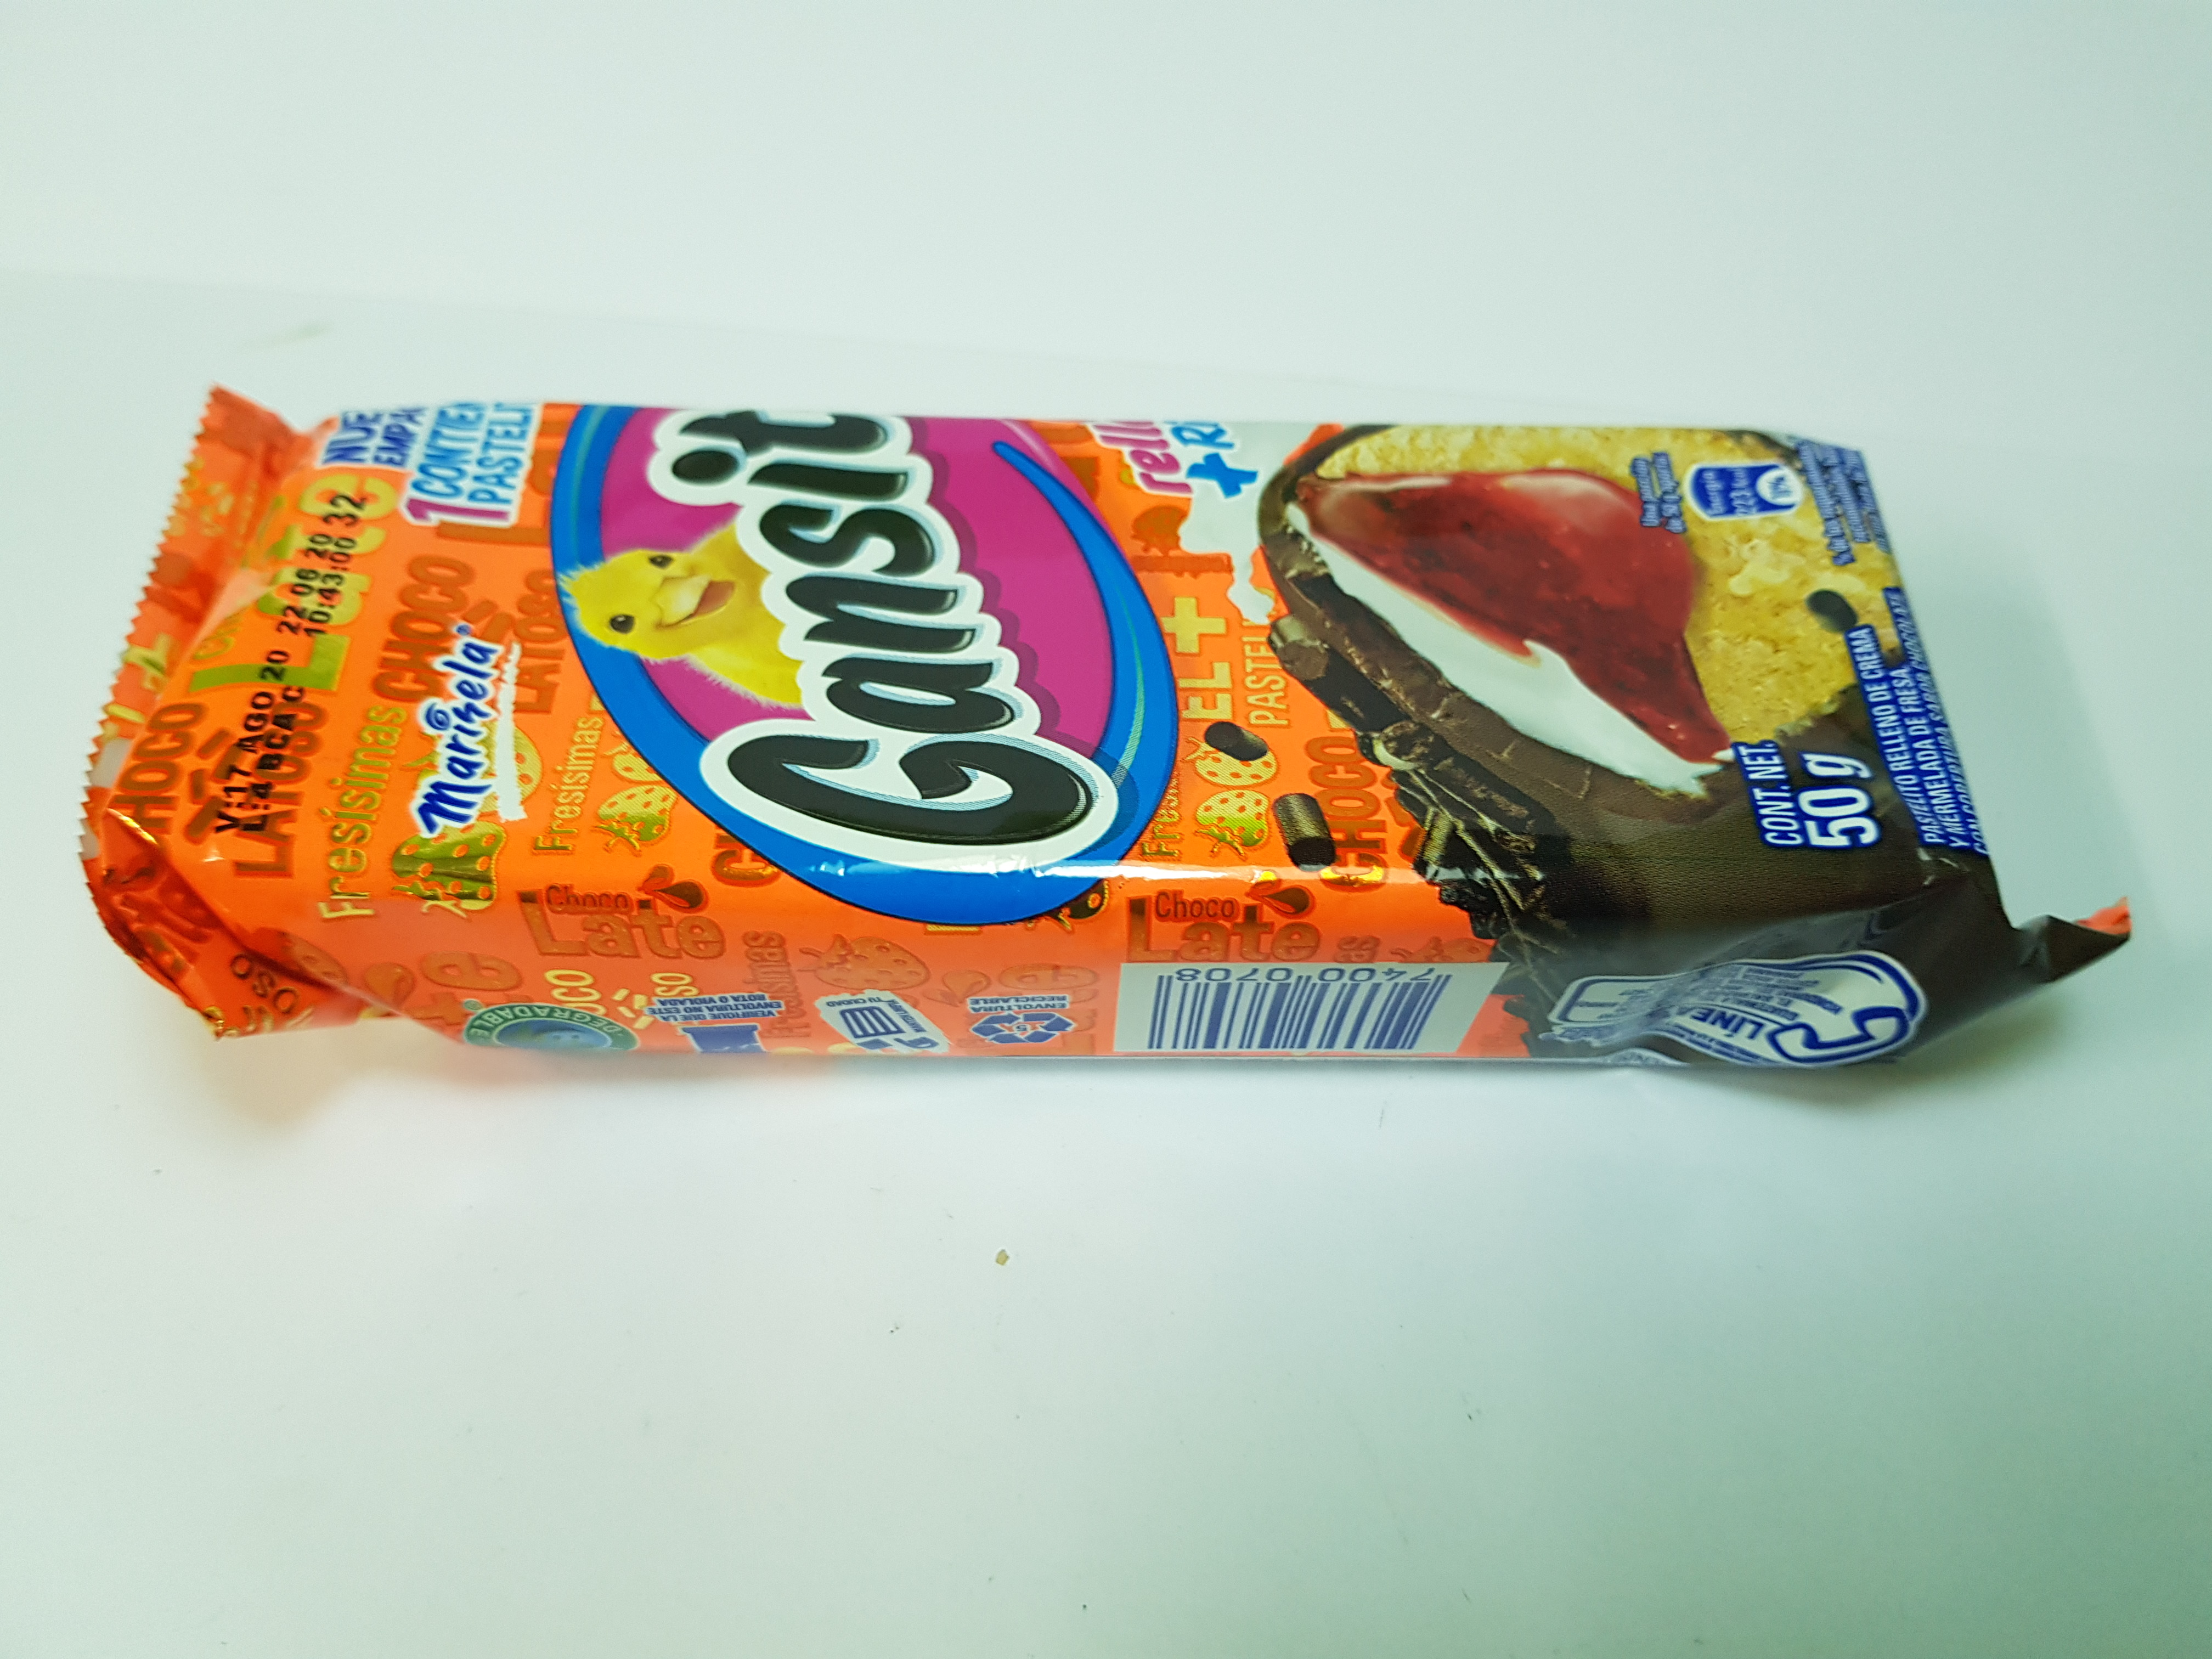gansito: (64, 359, 2149, 1093)
